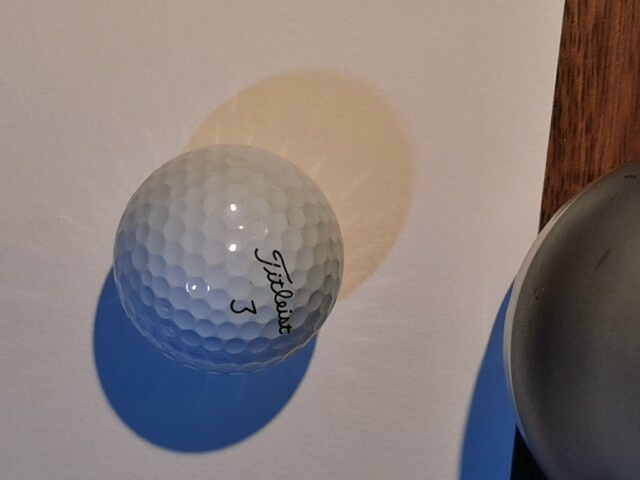Ball: (113, 143, 344, 375)
Titleist: (254, 248, 293, 335)
